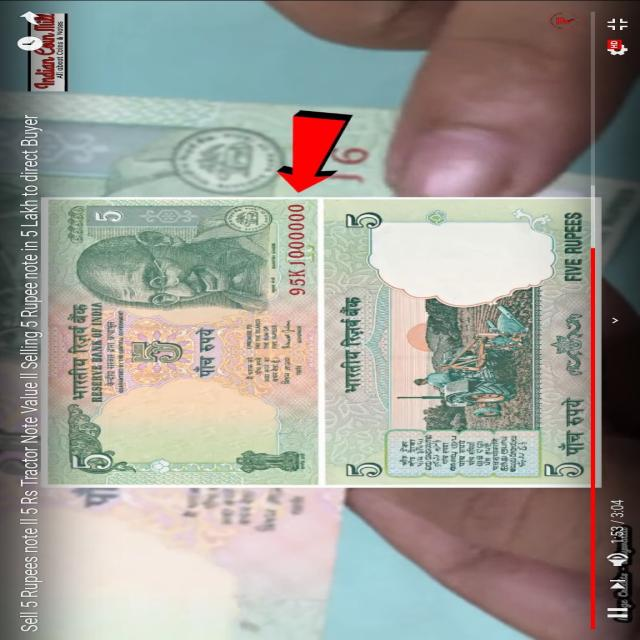5IndianRupees: (49, 200, 317, 483)
